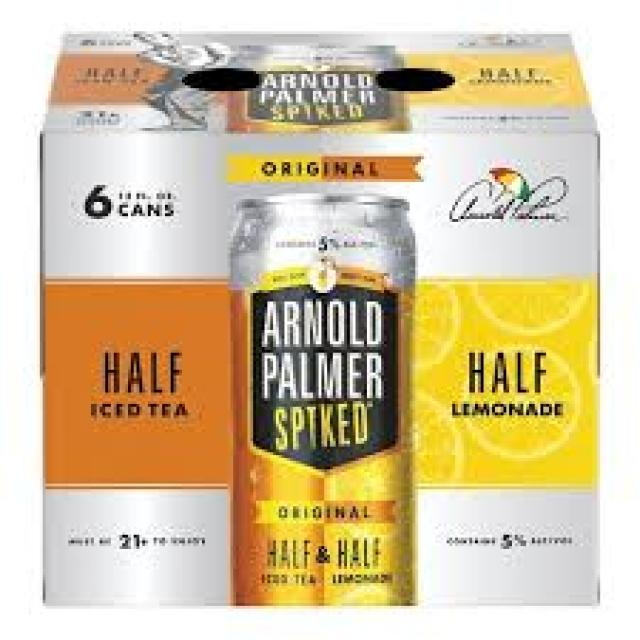Cans: (222, 185, 424, 606)
